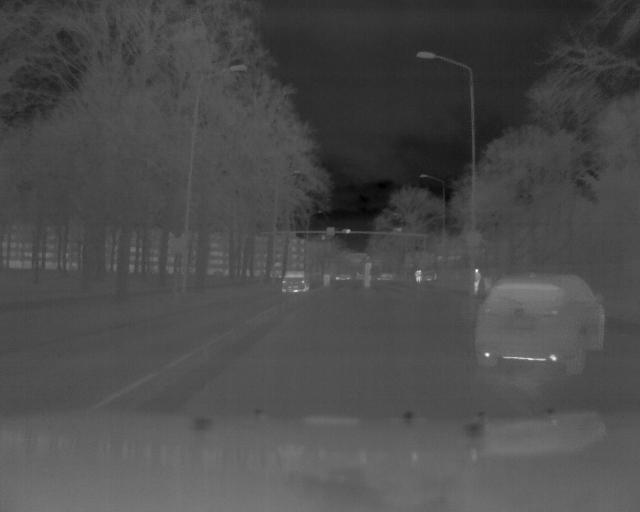car: (472, 269, 607, 373), (279, 265, 311, 295)
person: (471, 267, 482, 297)
